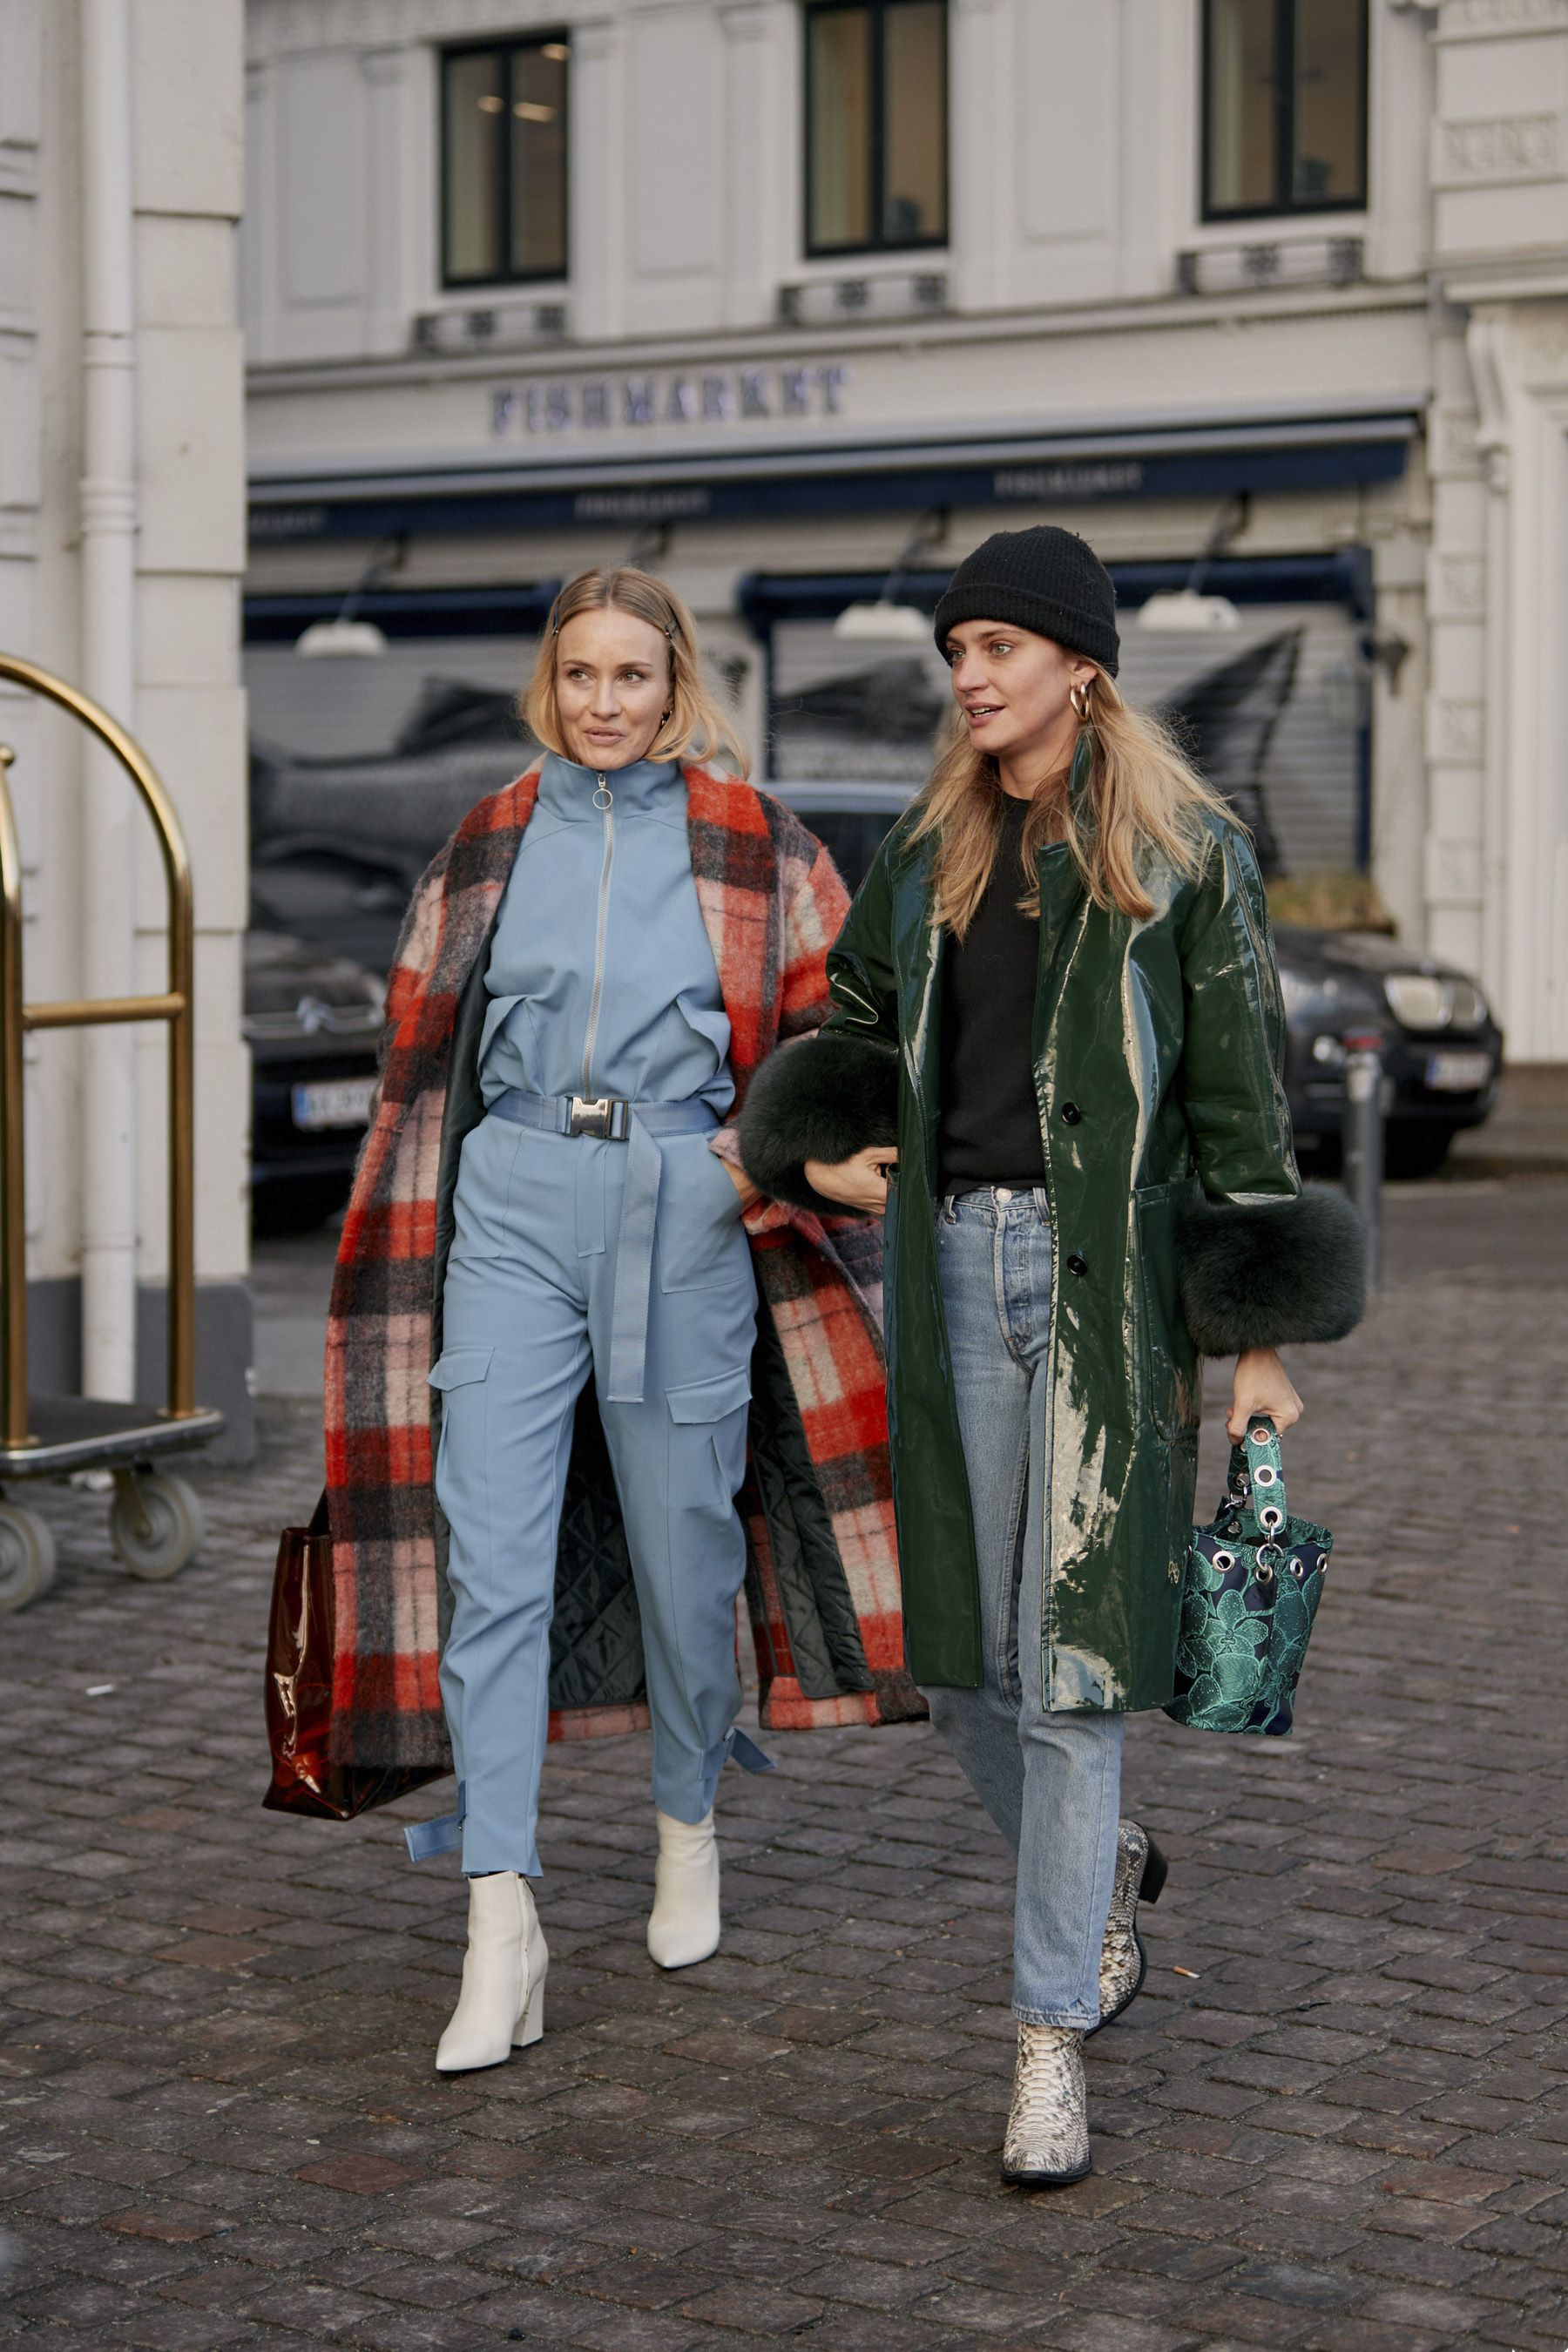Person: (718, 486, 1380, 2236), (247, 539, 835, 2138)
